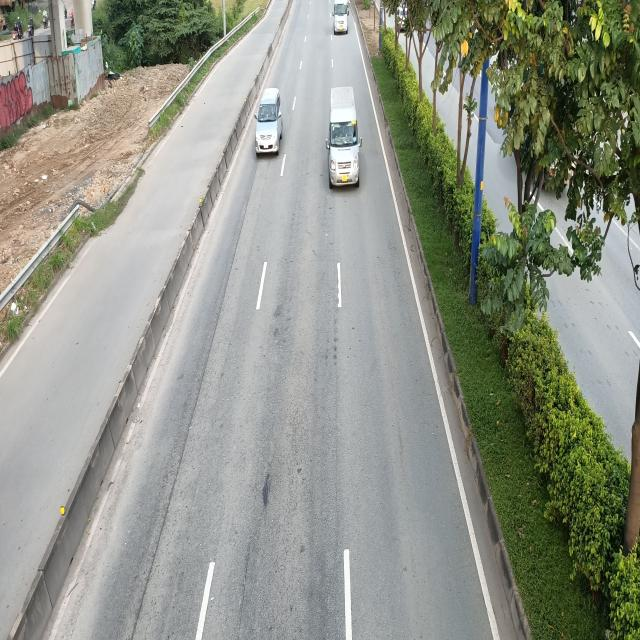car: (256, 90, 284, 157)
van: (327, 87, 362, 191), (333, 0, 349, 37)
